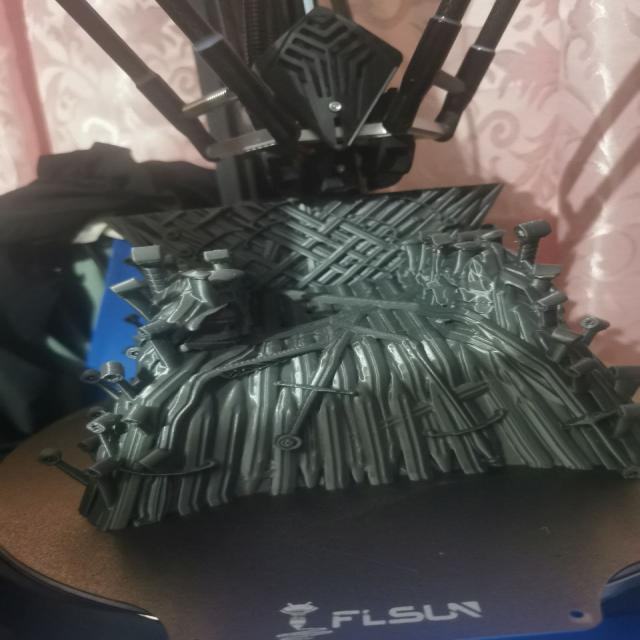Without deffect: (109, 202, 630, 500)
